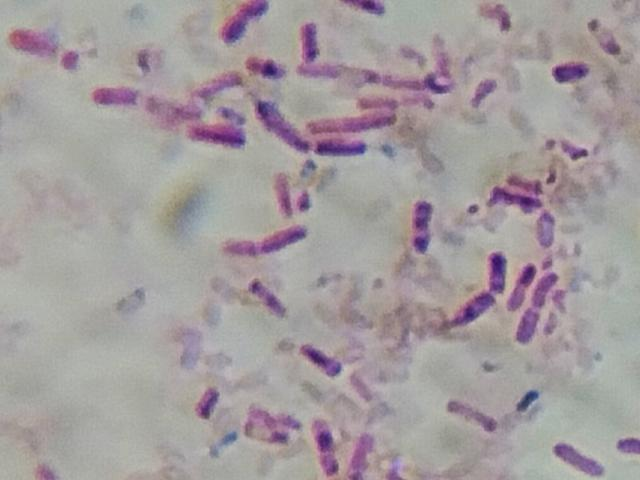E. coli: (10, 25, 86, 70), (226, 224, 312, 254), (256, 96, 301, 150), (308, 105, 395, 131), (552, 438, 602, 480), (93, 80, 160, 111), (449, 288, 497, 329), (192, 115, 251, 147), (309, 417, 340, 475), (252, 279, 287, 325), (492, 185, 547, 214), (412, 198, 438, 258), (224, 2, 266, 39), (302, 341, 343, 378), (448, 396, 491, 431), (194, 65, 247, 92), (512, 255, 535, 316), (482, 248, 511, 290), (548, 56, 589, 85), (300, 19, 327, 61), (538, 266, 562, 311), (317, 136, 361, 159), (246, 51, 288, 75), (273, 174, 296, 216), (538, 205, 559, 247), (615, 426, 640, 460), (193, 386, 217, 419), (520, 309, 543, 343)
